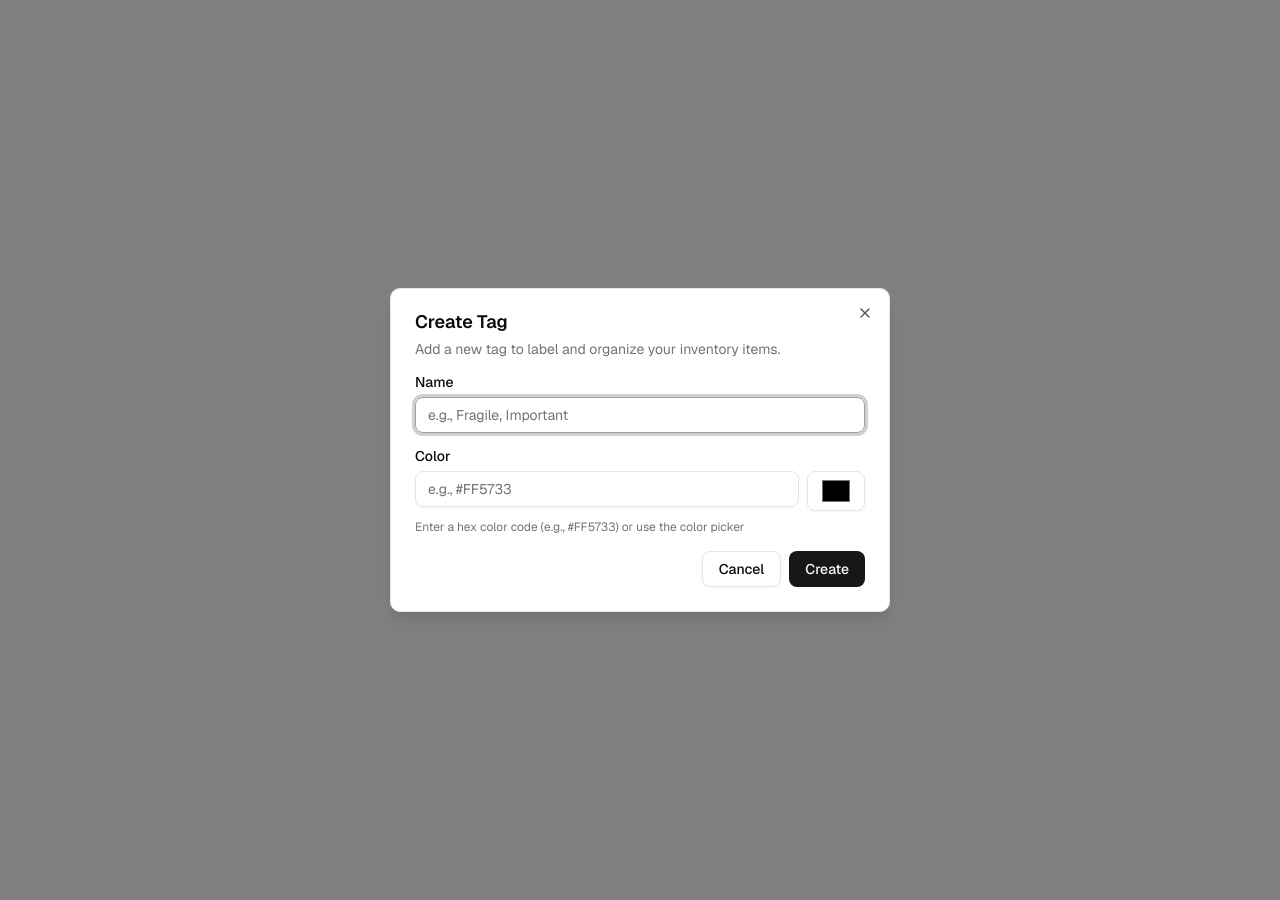
Scenario: TagForm Component › Form Validation › should reject hex color without # prefix
Type "Test" into the field labelled "Name" at [640, 415], box [415,397,865,433]
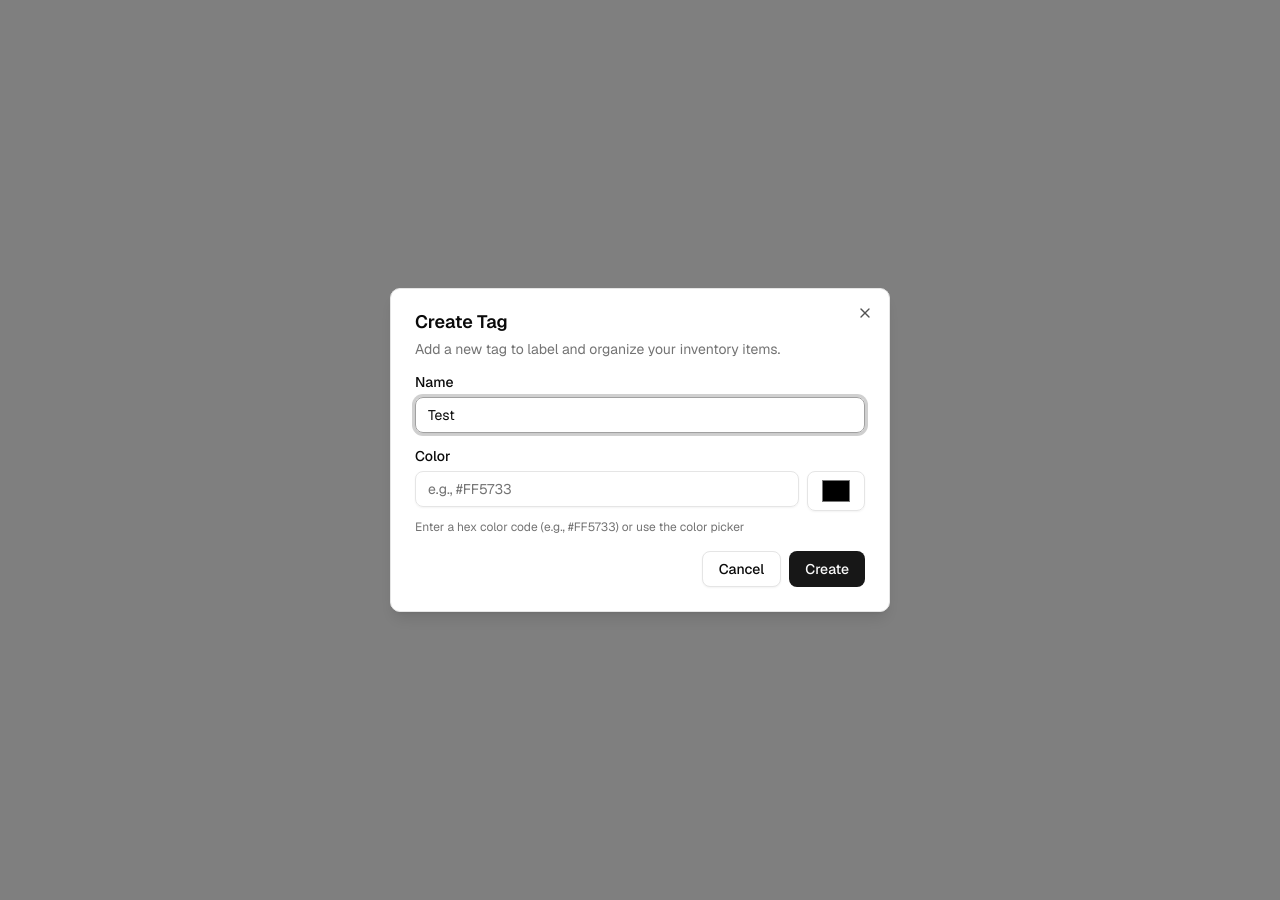
Type "FF5733" into the field with placeholder "e.g., #FF5733" at [607, 489], box [415,471,799,507]
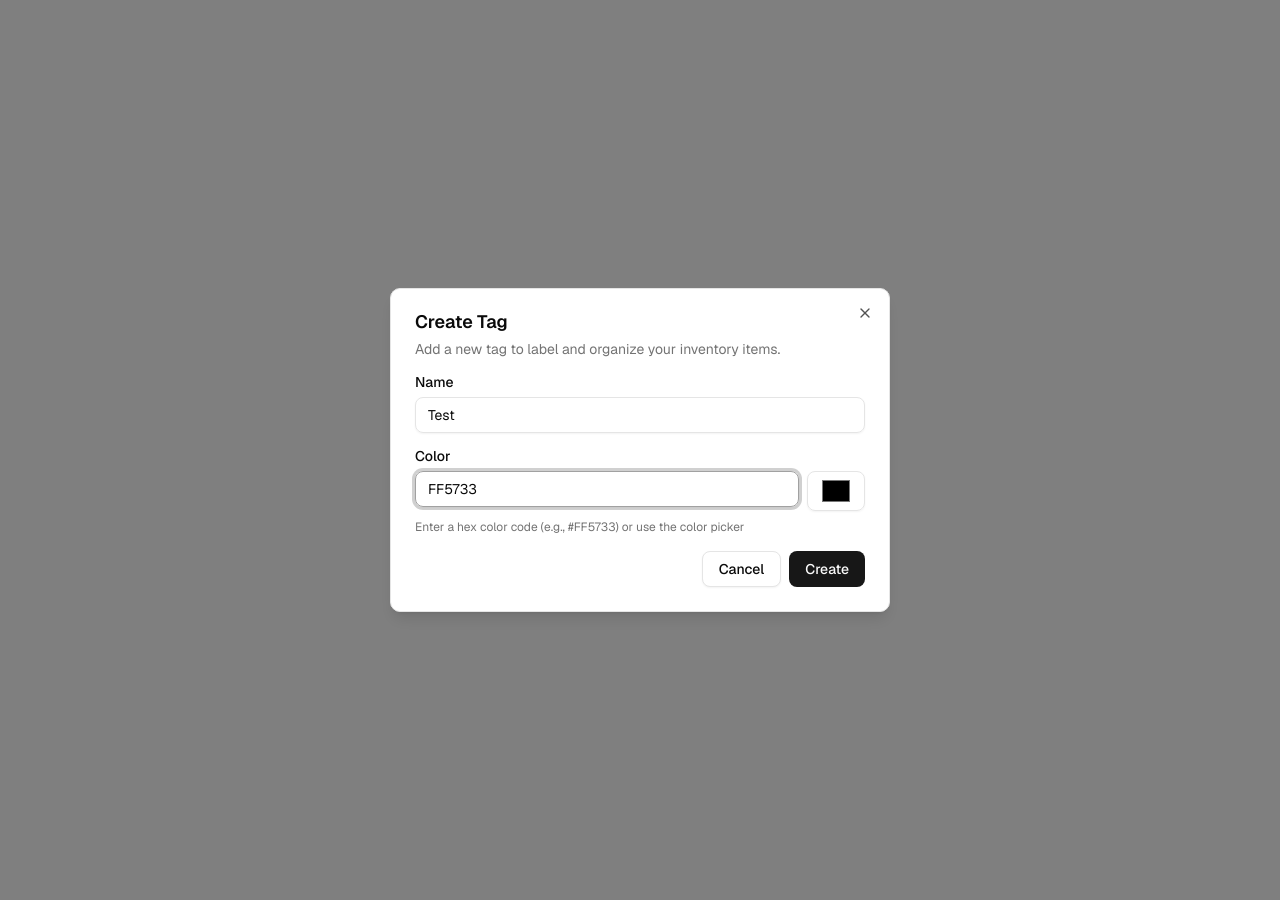
Click the button "Create" at [827, 569], box [789,551,865,587]
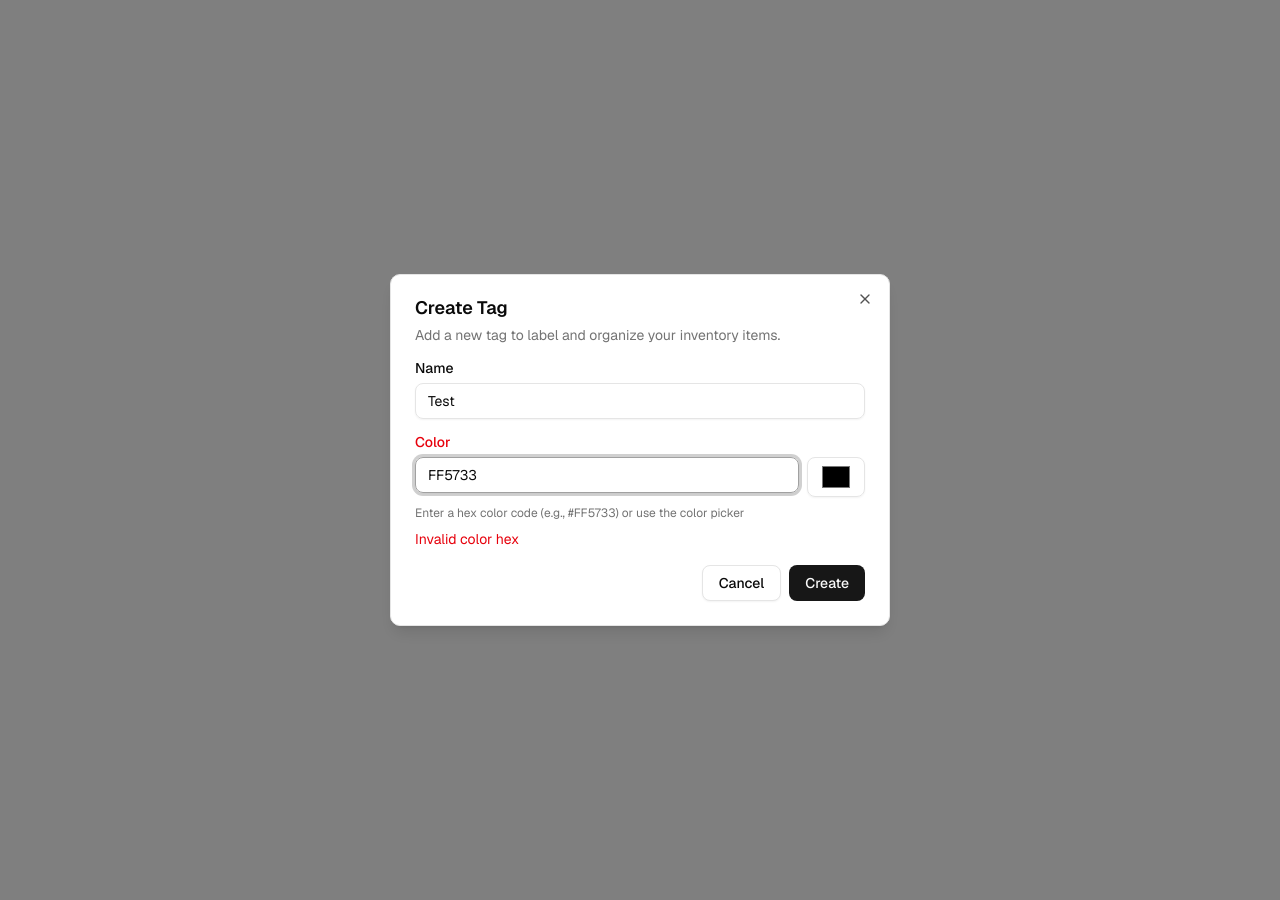
expect the text "Invalid color hex" is shown: met, box [415,530,519,548]
